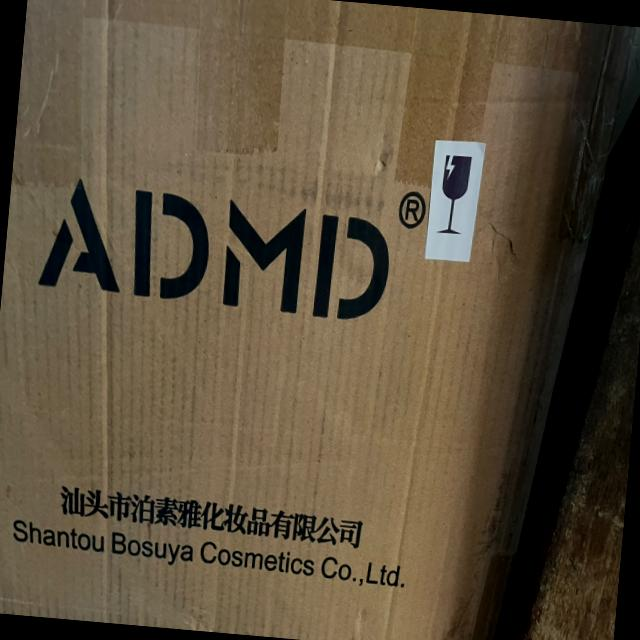carton_box: (0, 0, 634, 640)
fragile_label: (416, 122, 496, 294)
